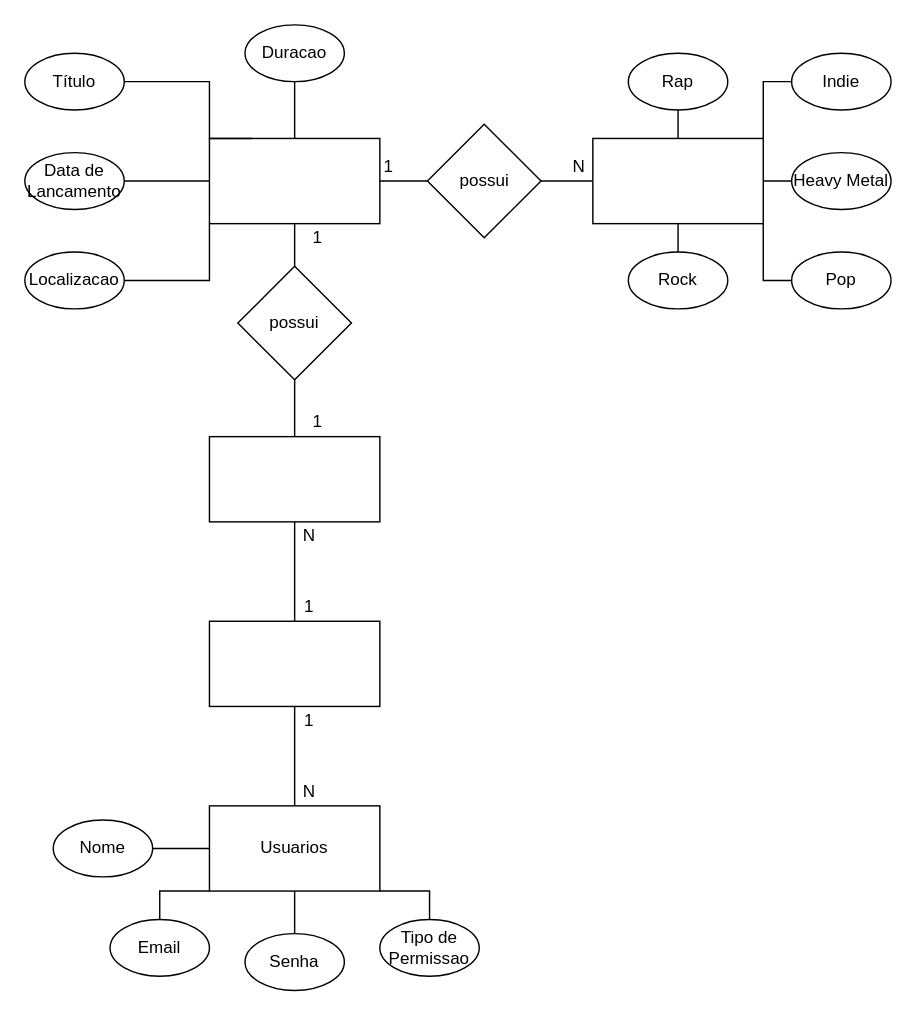
The diagram is 916 pixels wide and 1015 high, and some of its shapes have lost their labels. Here are the shapes that lost their labels. From the top down, the centre of each, then its label:
At point 294,180: "Album".
At point 677,180: "Estilos".
At point 294,478: "Artista".
At point 294,663: "Gosto musical".
